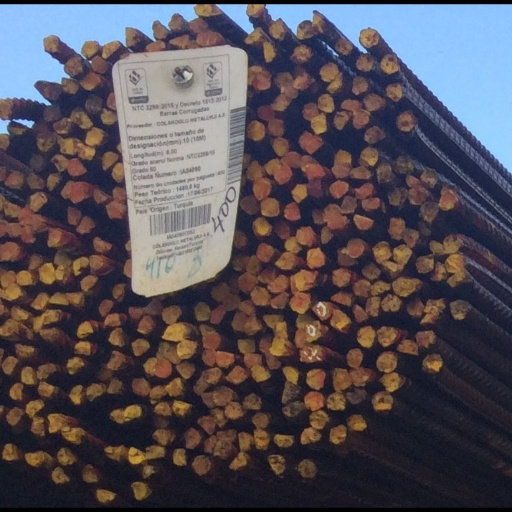dipstick: (33, 78, 60, 97), (325, 203, 346, 226), (391, 276, 415, 296), (299, 345, 324, 364), (289, 291, 310, 313), (443, 253, 466, 273), (304, 370, 324, 393), (396, 107, 415, 131), (371, 393, 391, 415), (281, 383, 303, 403), (70, 107, 93, 126), (386, 215, 404, 239), (358, 24, 378, 45), (245, 118, 266, 138), (422, 355, 443, 375), (355, 327, 375, 348), (296, 223, 316, 244), (299, 129, 321, 148), (105, 200, 127, 219), (397, 339, 420, 357), (304, 160, 328, 177), (327, 393, 347, 413), (307, 176, 326, 197), (414, 331, 435, 350), (375, 353, 396, 372), (164, 326, 188, 342), (334, 34, 354, 53), (386, 185, 405, 205), (258, 196, 278, 215), (393, 244, 412, 264), (380, 261, 400, 280), (345, 238, 364, 258), (377, 328, 397, 347), (380, 373, 400, 392), (304, 393, 324, 412), (267, 458, 287, 477), (255, 242, 275, 261), (238, 272, 258, 291), (84, 91, 103, 111), (303, 322, 324, 340), (212, 388, 233, 406), (306, 247, 324, 268), (69, 181, 87, 202), (280, 405, 305, 420), (288, 42, 310, 59), (230, 312, 247, 334), (352, 215, 375, 231), (253, 431, 269, 454), (78, 37, 101, 53), (240, 195, 259, 214), (252, 215, 271, 234), (344, 350, 363, 369), (312, 302, 331, 321), (250, 366, 269, 385), (295, 271, 314, 290), (176, 342, 195, 361), (354, 49, 372, 69), (296, 17, 314, 37), (363, 123, 381, 143), (316, 90, 334, 110), (372, 241, 390, 261), (337, 247, 357, 265), (331, 309, 349, 329), (297, 464, 317, 482), (242, 395, 262, 413), (227, 369, 247, 387), (29, 419, 47, 439), (380, 49, 397, 70), (442, 235, 463, 252), (451, 299, 468, 320), (348, 368, 369, 385), (82, 126, 103, 143), (446, 272, 468, 288), (23, 455, 45, 471), (282, 369, 305, 384), (384, 80, 402, 99), (363, 90, 382, 108), (301, 99, 319, 118), (283, 202, 302, 220), (329, 178, 347, 197), (308, 412, 326, 431), (191, 459, 210, 477), (182, 431, 200, 450), (271, 339, 289, 358), (269, 274, 288, 292), (271, 293, 289, 312), (250, 287, 268, 306), (131, 381, 149, 400), (95, 490, 113, 509), (88, 255, 107, 273), (48, 226, 66, 245), (6, 170, 25, 188), (380, 295, 400, 312), (136, 316, 153, 336), (311, 110, 327, 131), (329, 269, 350, 285), (332, 291, 353, 307), (236, 435, 252, 456), (214, 444, 235, 460), (108, 353, 124, 374), (108, 328, 124, 349), (65, 291, 86, 307), (332, 107, 347, 129), (40, 263, 55, 285), (319, 60, 337, 78), (359, 145, 377, 163), (408, 184, 426, 202), (400, 228, 418, 246), (429, 240, 447, 258), (277, 252, 295, 270), (81, 70, 99, 88), (30, 191, 48, 209), (352, 107, 369, 126), (266, 117, 285, 134), (253, 177, 270, 196), (354, 180, 373, 197), (341, 195, 358, 214), (408, 299, 425, 318), (363, 263, 382, 280), (364, 298, 381, 317), (332, 371, 349, 390), (329, 428, 346, 447), (198, 418, 215, 437), (274, 220, 291, 239), (162, 305, 181, 322), (51, 471, 68, 490), (56, 452, 75, 469), (47, 417, 66, 434), (131, 339, 148, 358), (59, 134, 78, 151), (197, 26, 220, 40), (416, 254, 432, 274), (351, 280, 371, 296), (347, 417, 367, 433), (300, 431, 320, 447), (223, 405, 243, 421), (162, 344, 178, 364), (151, 431, 171, 447), (261, 38, 277, 58), (268, 15, 284, 35), (123, 23, 139, 43), (42, 102, 62, 118), (330, 162, 351, 177), (228, 457, 249, 472), (215, 352, 236, 367), (201, 370, 222, 385), (68, 388, 83, 409), (103, 315, 124, 330), (31, 294, 52, 309), (61, 431, 83, 445), (102, 38, 124, 52), (295, 68, 312, 86), (171, 450, 188, 468), (154, 362, 172, 379), (151, 17, 169, 34), (91, 52, 108, 70), (54, 115, 72, 132), (100, 150, 118, 167), (68, 156, 86, 173), (55, 266, 72, 284), (55, 250, 73, 267), (427, 298, 446, 314), (244, 319, 260, 338), (172, 401, 188, 420), (231, 253, 247, 272), (253, 67, 269, 86), (62, 75, 81, 91), (65, 204, 81, 223), (25, 172, 44, 188), (352, 71, 367, 91), (438, 188, 453, 208), (352, 164, 372, 179), (294, 315, 314, 330), (243, 355, 263, 370), (210, 306, 225, 326), (167, 380, 182, 400), (73, 342, 93, 357), (2, 445, 17, 465), (237, 339, 258, 353), (22, 369, 36, 390), (335, 147, 352, 164), (210, 283, 227, 300), (176, 362, 193, 379), (81, 469, 98, 486), (123, 407, 140, 424), (38, 364, 55, 381), (24, 402, 41, 419), (30, 151, 47, 168), (2, 242, 19, 259), (15, 344, 32, 361), (273, 92, 291, 108), (257, 101, 275, 117), (420, 168, 436, 186), (291, 183, 307, 201), (310, 205, 326, 223), (348, 388, 364, 406), (273, 436, 291, 452), (193, 302, 209, 320), (245, 24, 263, 40), (63, 56, 81, 72), (42, 32, 60, 48), (37, 131, 55, 147), (92, 185, 110, 201), (37, 385, 55, 401), (10, 305, 28, 321), (244, 0, 266, 13), (275, 69, 294, 84), (361, 196, 380, 211), (261, 266, 276, 285), (248, 256, 263, 275), (258, 334, 273, 353), (201, 351, 216, 370), (91, 236, 110, 251), (342, 95, 362, 109), (149, 417, 169, 431), (169, 31, 189, 45), (5, 120, 25, 134), (143, 449, 166, 461), (191, 0, 216, 11), (144, 37, 169, 48), (311, 8, 324, 29), (262, 314, 283, 327), (247, 61, 260, 82), (187, 13, 208, 26), (203, 439, 219, 456), (225, 295, 241, 312), (86, 385, 102, 402), (143, 299, 160, 315), (76, 323, 93, 339), (111, 184, 127, 201), (75, 216, 92, 232), (2, 322, 18, 339), (270, 136, 288, 151), (283, 236, 301, 251), (108, 412, 126, 427), (101, 105, 116, 123), (52, 151, 67, 169), (4, 285, 22, 300), (329, 69, 343, 88), (396, 154, 410, 173), (132, 486, 146, 505), (105, 449, 124, 463), (371, 280, 391, 293), (293, 331, 306, 351), (218, 431, 238, 444), (98, 299, 111, 319), (110, 161, 123, 181), (420, 202, 436, 218), (298, 152, 314, 168), (265, 355, 281, 371), (203, 334, 219, 350), (106, 381, 122, 397), (376, 162, 391, 179), (247, 160, 262, 177), (251, 416, 268, 431), (127, 450, 142, 467), (80, 276, 97, 291), (50, 291, 65, 308), (5, 201, 20, 218), (211, 410, 225, 428), (143, 359, 157, 377), (154, 406, 172, 420), (319, 226, 332, 245), (283, 150, 298, 166), (276, 166, 292, 181), (120, 258, 132, 278), (169, 10, 185, 25), (79, 143, 95, 158), (40, 328, 55, 344), (17, 269, 32, 285), (5, 411, 21, 426), (430, 264, 444, 281), (352, 306, 366, 323), (95, 368, 112, 382), (67, 358, 81, 375), (73, 257, 87, 274), (2, 358, 16, 375), (111, 284, 124, 302), (0, 97, 11, 118), (10, 385, 22, 404), (128, 307, 143, 322), (45, 172, 60, 187), (266, 156, 280, 172), (200, 393, 214, 409), (5, 222, 21, 236), (281, 82, 298, 95), (233, 230, 245, 248), (106, 89, 118, 107), (192, 381, 207, 395), (151, 387, 166, 401), (30, 214, 44, 229), (20, 228, 35, 242), (238, 301, 254, 314), (27, 255, 43, 268), (420, 315, 435, 328), (0, 272, 15, 285), (20, 208, 32, 224), (141, 469, 155, 482), (60, 181, 70, 199), (404, 173, 420, 184), (198, 325, 215, 334), (0, 132, 9, 149), (48, 312, 59, 324), (32, 316, 40, 332), (40, 315, 50, 326)
